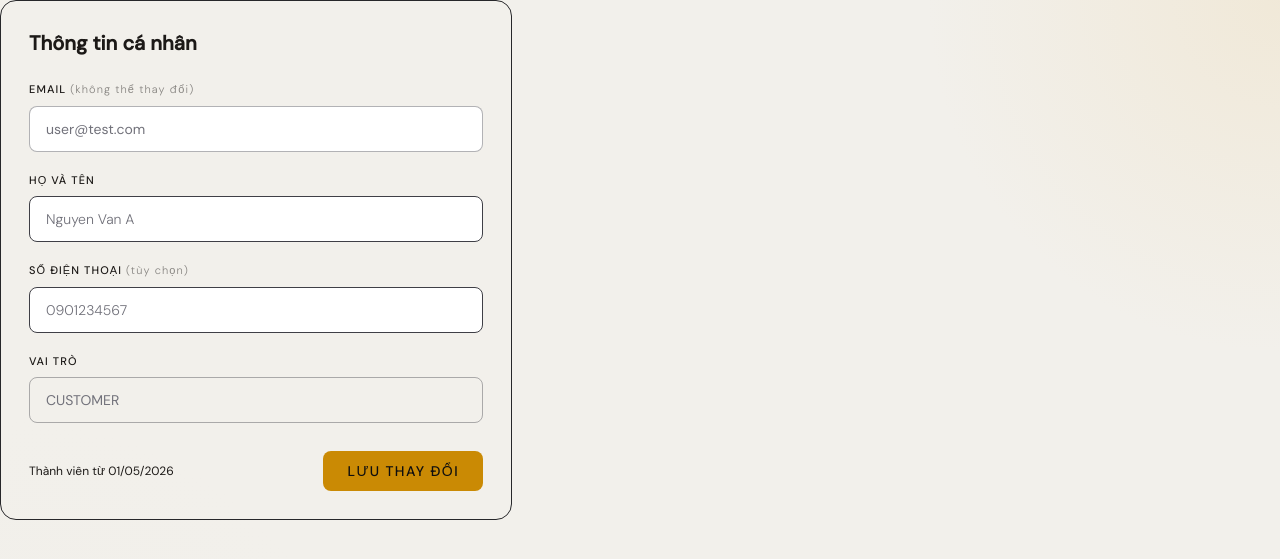
Test: EditProfileForm › should show min length error when full name has less than 2 characters
Step 1. Replace the text in the field showing "Nguyen Van A" below "Họ và tên" with "A" → (256, 219), box [29,196,483,242]
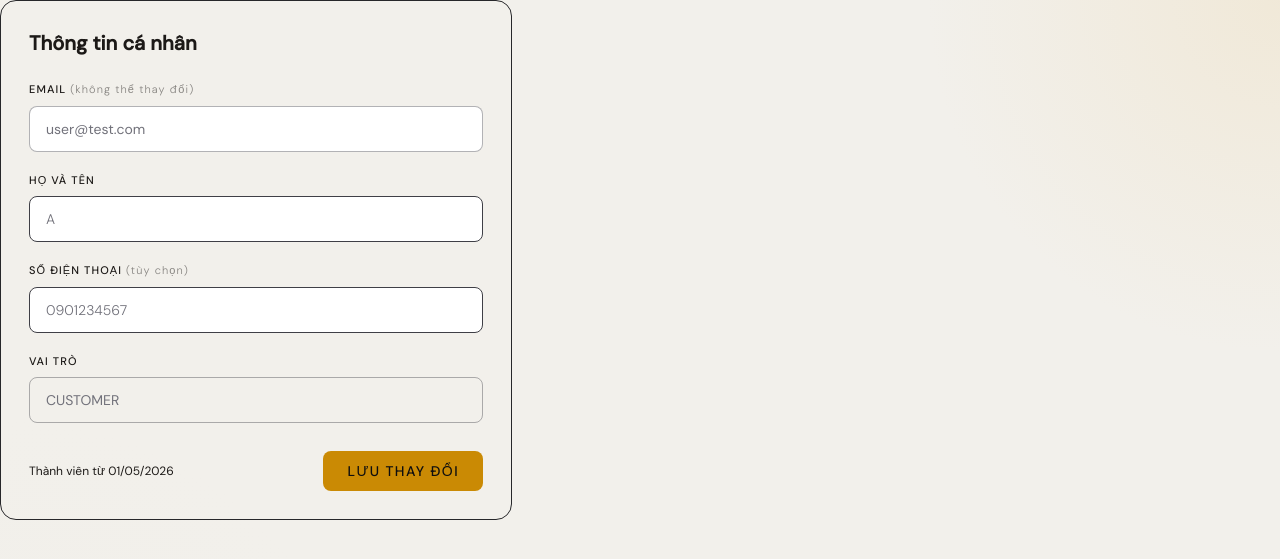
Step 2. Submit the form, box [29,81,483,491]
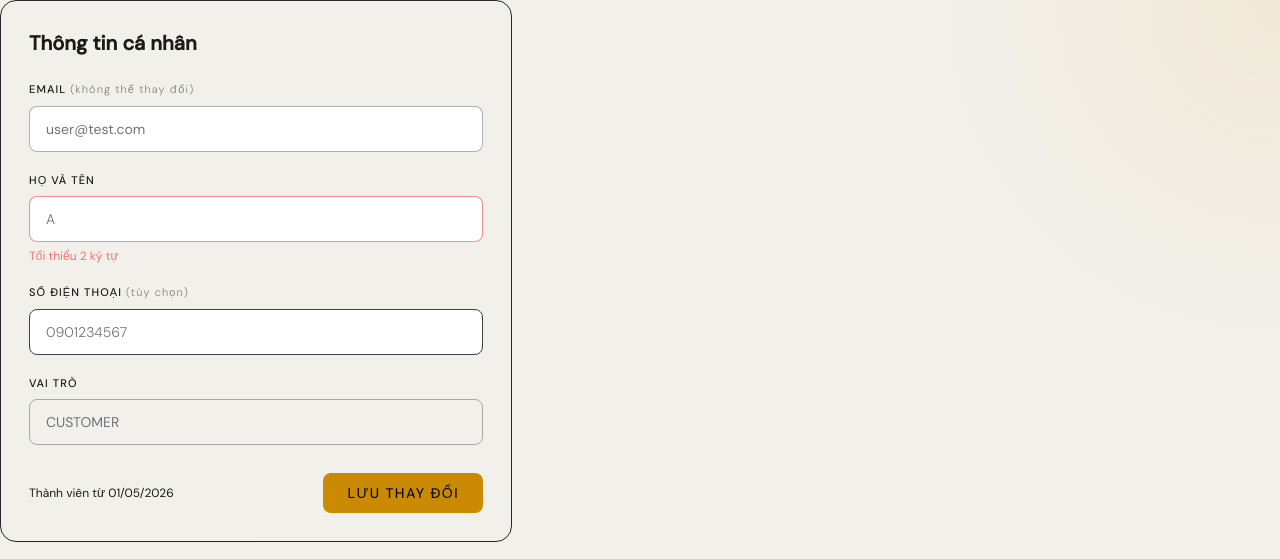
Expected: the text "Tối thiểu 2 ký tự" is shown, [29,248,118,264]
